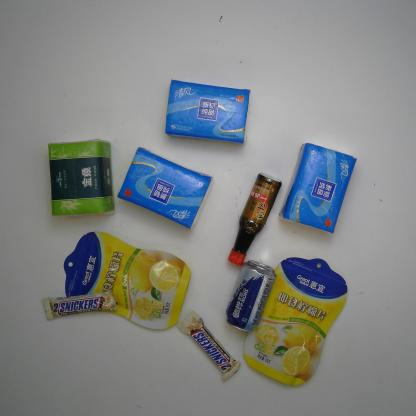Alcohol: (223, 258, 277, 333)
Chocolate: (176, 309, 242, 383), (41, 291, 119, 320)
Dried Fruit: (242, 252, 349, 388), (62, 231, 193, 332)
Seasoner: (227, 171, 283, 267)
Tissue: (115, 146, 214, 231), (276, 141, 359, 235), (163, 75, 252, 149), (47, 136, 116, 218)
